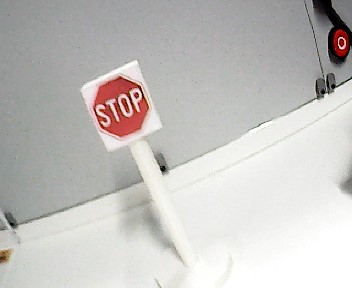stop-bord: (86, 76, 154, 137)
